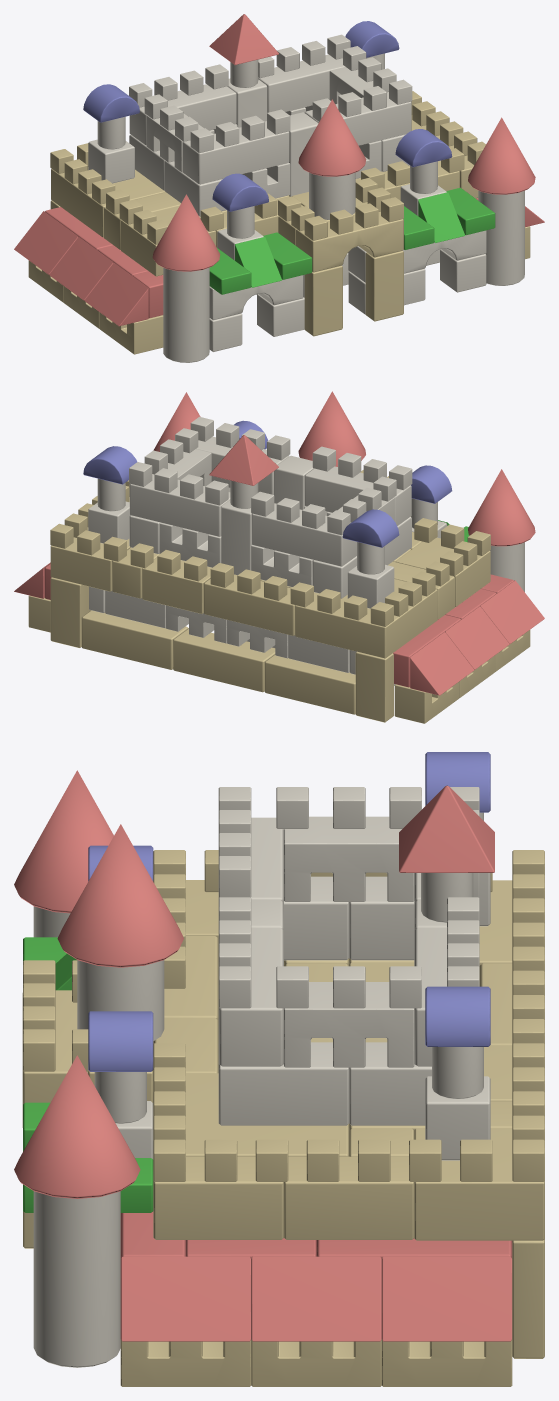
The model's file is catsle kari.fbx.
3 views of the same model, one above another, from view 1: azimuth 30°, elevation 25°; view 2: azimuth 150°, elevation 25°; view 3: azimuth 270°, elevation 25° (orthographic). The views are drawn at different scales.
Visible parts, largest first — view 1: pCylinder5, pCube159, pCylinder6, pCube13, pCone5, pCone3, pCone4, pCube169, pCube34, pCube289, pCube170, pCube119 (+73 smaller); view 2: pCube289, pCube285, pCube230, pCube226, pCube170, pCube278, pCube169, pCone3, pCube159, pCube243, pCube245, pCone5 (+81 smaller); view 3: pCylinder6, pCube35, pCube270, pCube268, pCone5, pCone4, pCube271, pCube272, pCube273, pCube167, pCube163, pCube166 (+87 smaller).
Boxes of the visible parts, x1,y1,x2,y2 form: pCylinder5: (163,267,209,362); pCube159: (182,121,289,184); pCylinder6: (478,190,524,285); pCube13: (296,211,403,272); pCone5: (298,99,366,176); pCone3: (152,194,220,271); pCone4: (468,117,535,194); pCube169: (258,54,345,112); pCube34: (84,262,148,326); pCube289: (51,167,165,237); pCube170: (129,84,236,145); pCube119: (365,251,403,321); pCube289: (295,579,437,658); pCube285: (173,628,275,692); pCube230: (81,610,188,669); pCube226: (264,654,355,714); pCube170: (251,503,356,566); pCube278: (203,574,295,635); pCube169: (129,474,230,536); pCone3: (468,469,535,546); pCube159: (304,466,411,525); pCube243: (410,632,474,695); pCube245: (355,651,393,722); pCone5: (298,391,365,466); pCylinder6: (33,1191,120,1367); pCube35: (120,1256,251,1341); pCube270: (382,1256,512,1341); pCube268: (251,1256,381,1341); pCone5: (57,824,183,967); pCone4: (14,1055,140,1198); pCube271: (414,1128,544,1240); pCube272: (284,1156,414,1239); pCube273: (153,1156,283,1239); pCube167: (218,1042,349,1125); pCube163: (284,816,414,901); pCube166: (284,982,414,1067).
Size of the model in its own units: 419 by 214 by 244.
